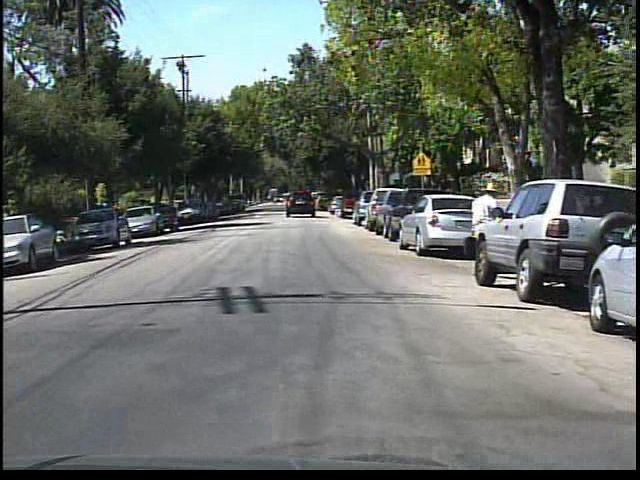person: (460, 179, 503, 284)
